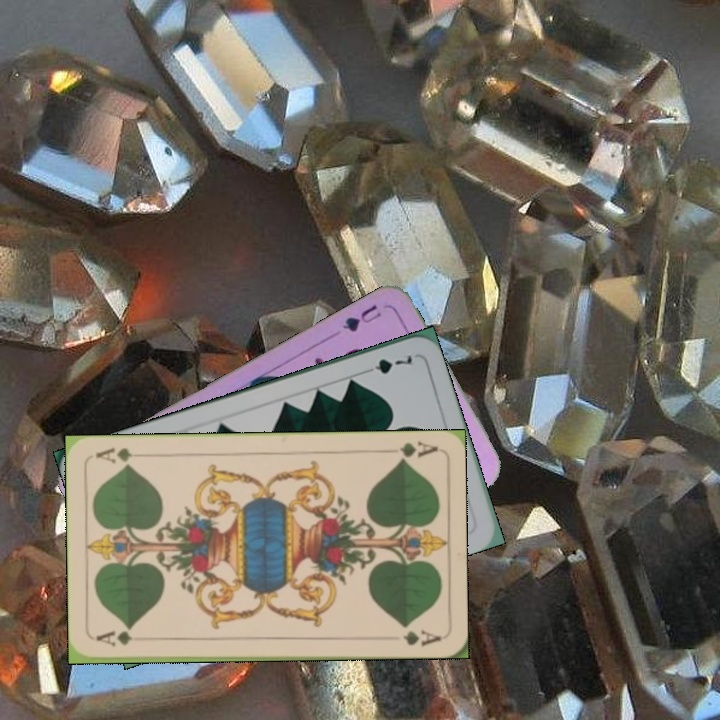G7: (358, 351, 415, 377)
GA: (380, 437, 439, 465), (93, 627, 135, 650)
GU: (338, 300, 384, 335)
